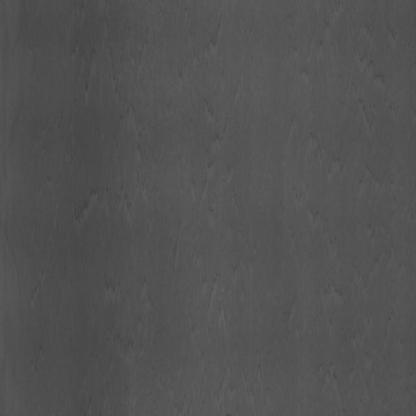silk_spot: (66, 62, 156, 283), (176, 87, 235, 241), (193, 283, 245, 355)
